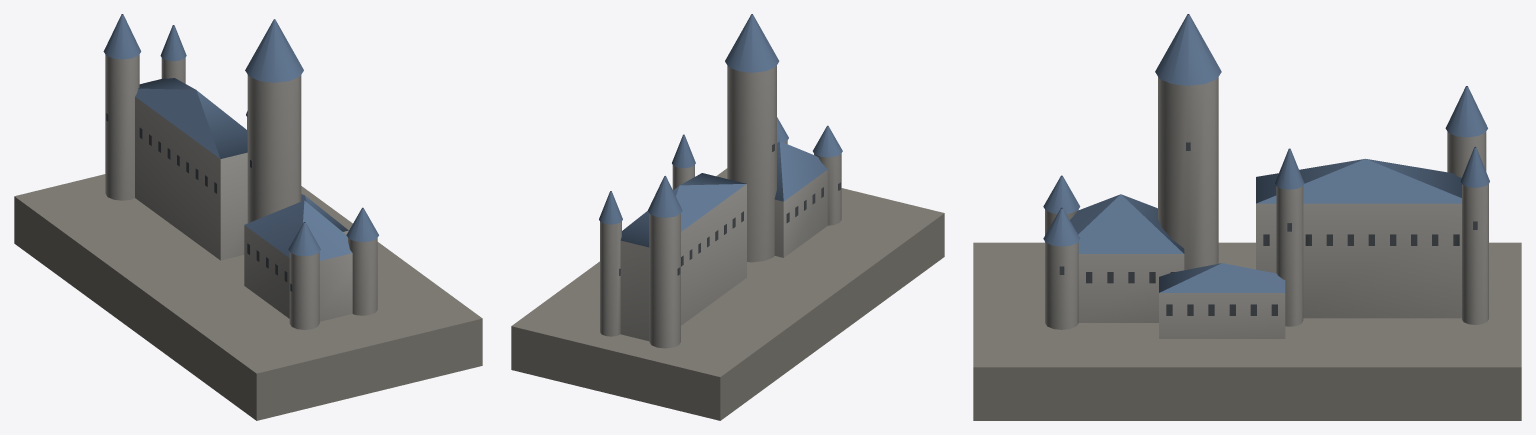
The model's file is neuschwanstein.glb.
3 renders of one model, left to right at view 1: azimuth 30°, elevation 25°; view 2: azimuth 150°, elevation 25°; view 3: azimuth 270°, elevation 25°, orthographic. The views are drawn at different scales.
Parts seen in each view (by area): view 1: lack; view 2: lack; view 3: lack.
Boxes of the visible parts, <box> form: lack: <box>14,14,482,420</box>; lack: <box>511,14,944,420</box>; lack: <box>973,14,1521,420</box>.
Bounding box in the file's own units: 70 × 90 × 130.
